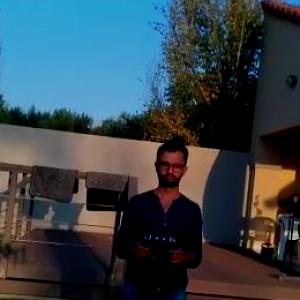follow: (107, 129, 209, 299)
